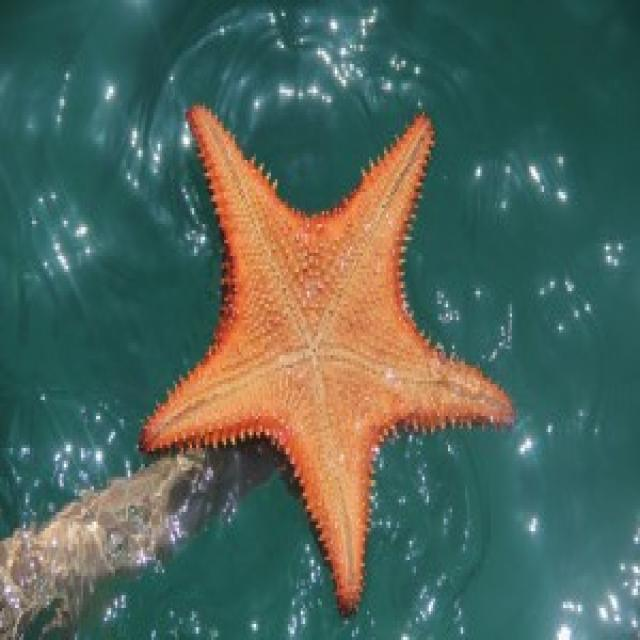Starfish: (139, 91, 516, 613)
